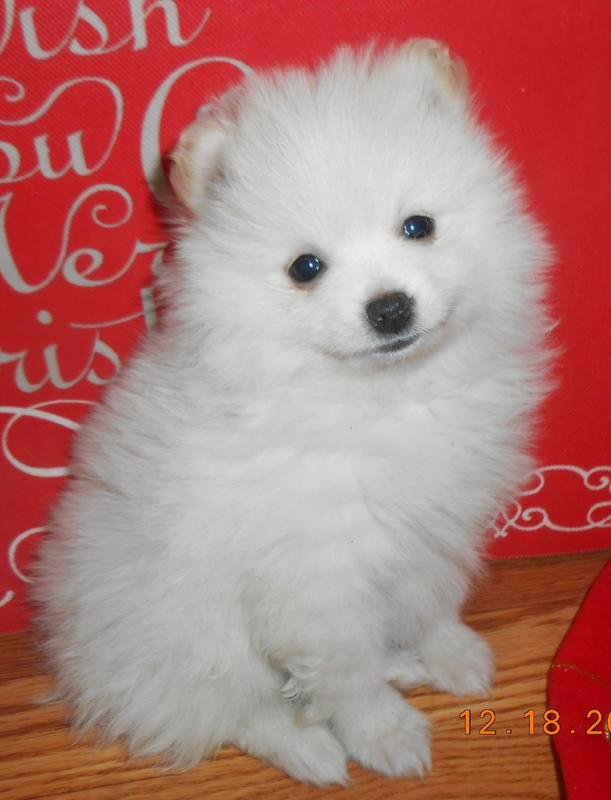pomeranian: (47, 34, 562, 800)
